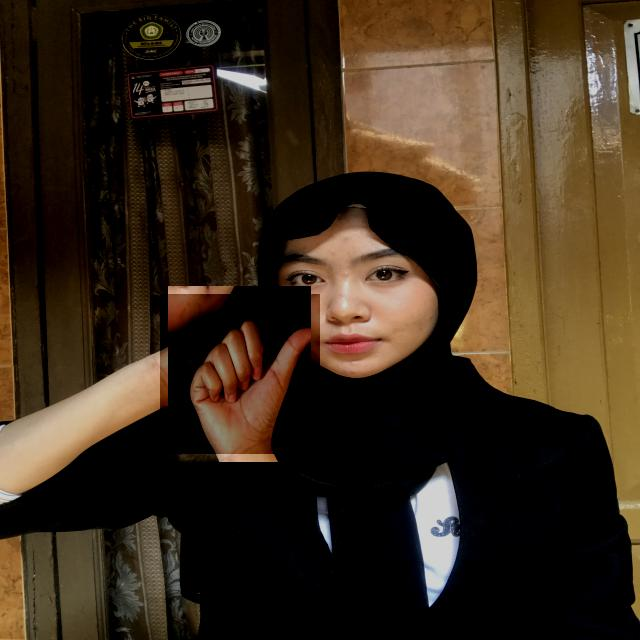sedih: (160, 294, 320, 454)
